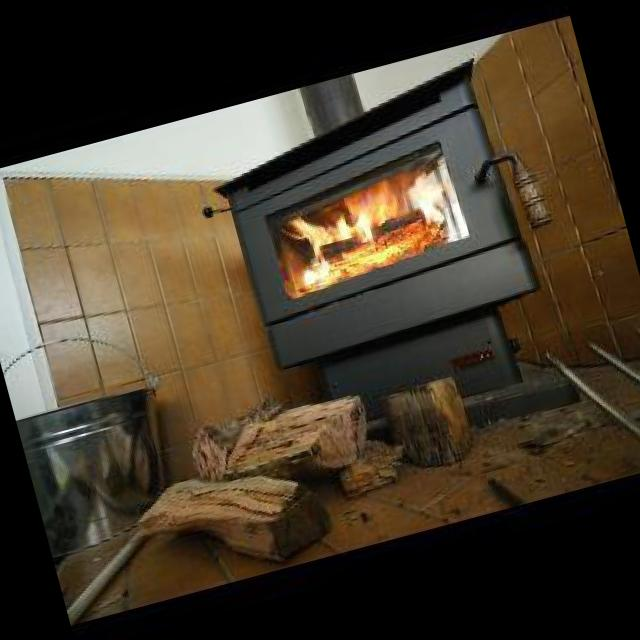Fire: (266, 168, 449, 292)
